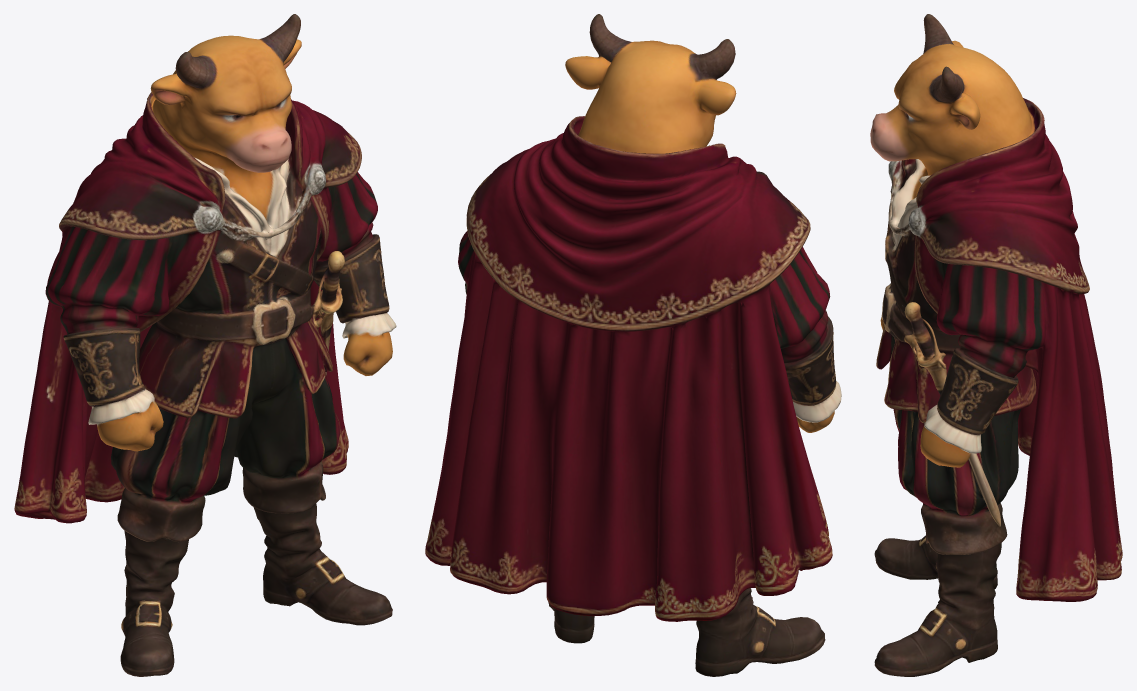
The model's file is minotaur.glb.
3 renders of one model, left to right at view 1: azimuth 30°, elevation 25°; view 2: azimuth 150°, elevation 25°; view 3: azimuth 270°, elevation 25°, orthographic. The views are drawn at different scales.
Visible parts, largest first — view 1: tripo_node_2e0c3251-7f1f-4089-a904-f86b9a33d556; view 2: tripo_node_2e0c3251-7f1f-4089-a904-f86b9a33d556; view 3: tripo_node_2e0c3251-7f1f-4089-a904-f86b9a33d556.
Boxes of the visible parts, x1=… form: tripo_node_2e0c3251-7f1f-4089-a904-f86b9a33d556: x1=14, y1=14, x2=396, y2=676; tripo_node_2e0c3251-7f1f-4089-a904-f86b9a33d556: x1=425, y1=14, x2=841, y2=676; tripo_node_2e0c3251-7f1f-4089-a904-f86b9a33d556: x1=870, y1=14, x2=1122, y2=676.
Bounding box in the file's own units: 0.6122 × 0.9715 × 0.3822.
1 material, 1 textured.
